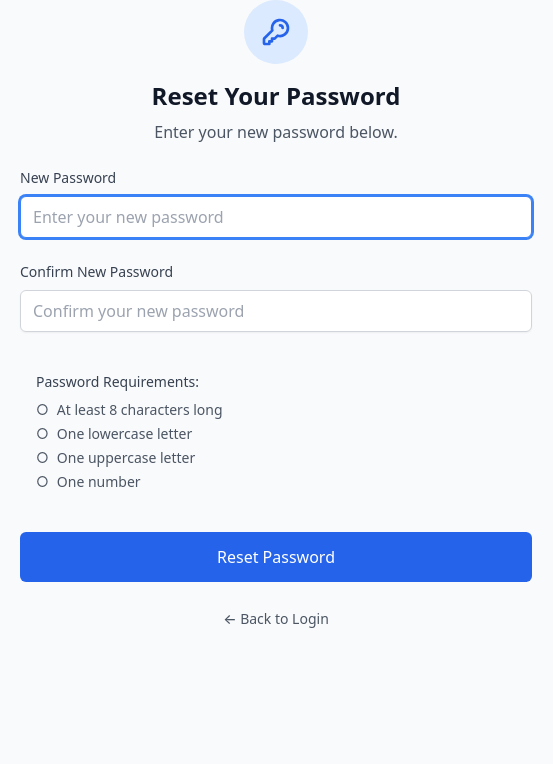
ResetPassword Component › Form Validation › shows error for weak password (too short)
Type "weak" into the password field labelled "New Password" at (276,217), box 20,196 -> 532,238
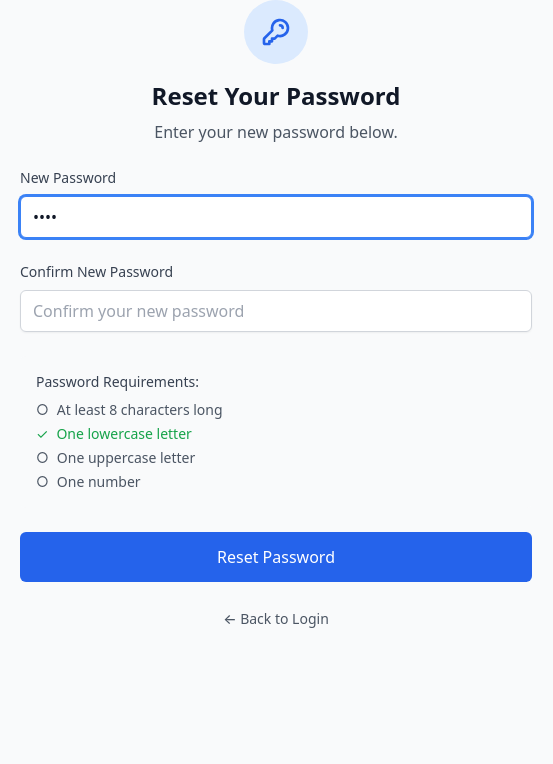
Type "weak" into the password field labelled "Confirm New Password" at (276,311), box 20,290 -> 532,332
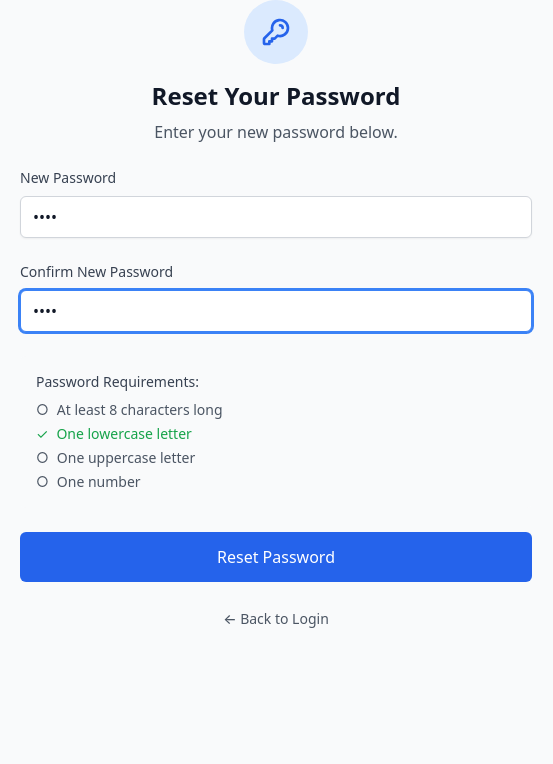
Click the button "Reset Password" at (276,557), box 20,532 -> 532,582
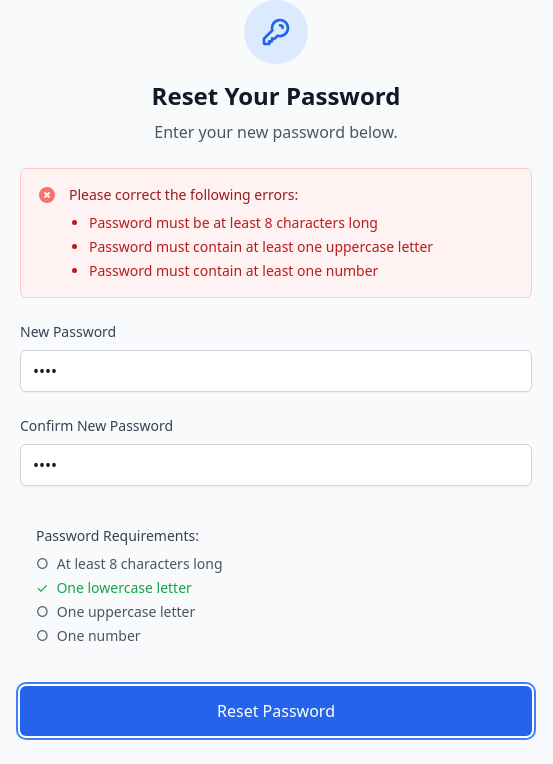
Expected: the list item "Password must be at least 8 characters long" is shown, 89,213 -> 378,232
